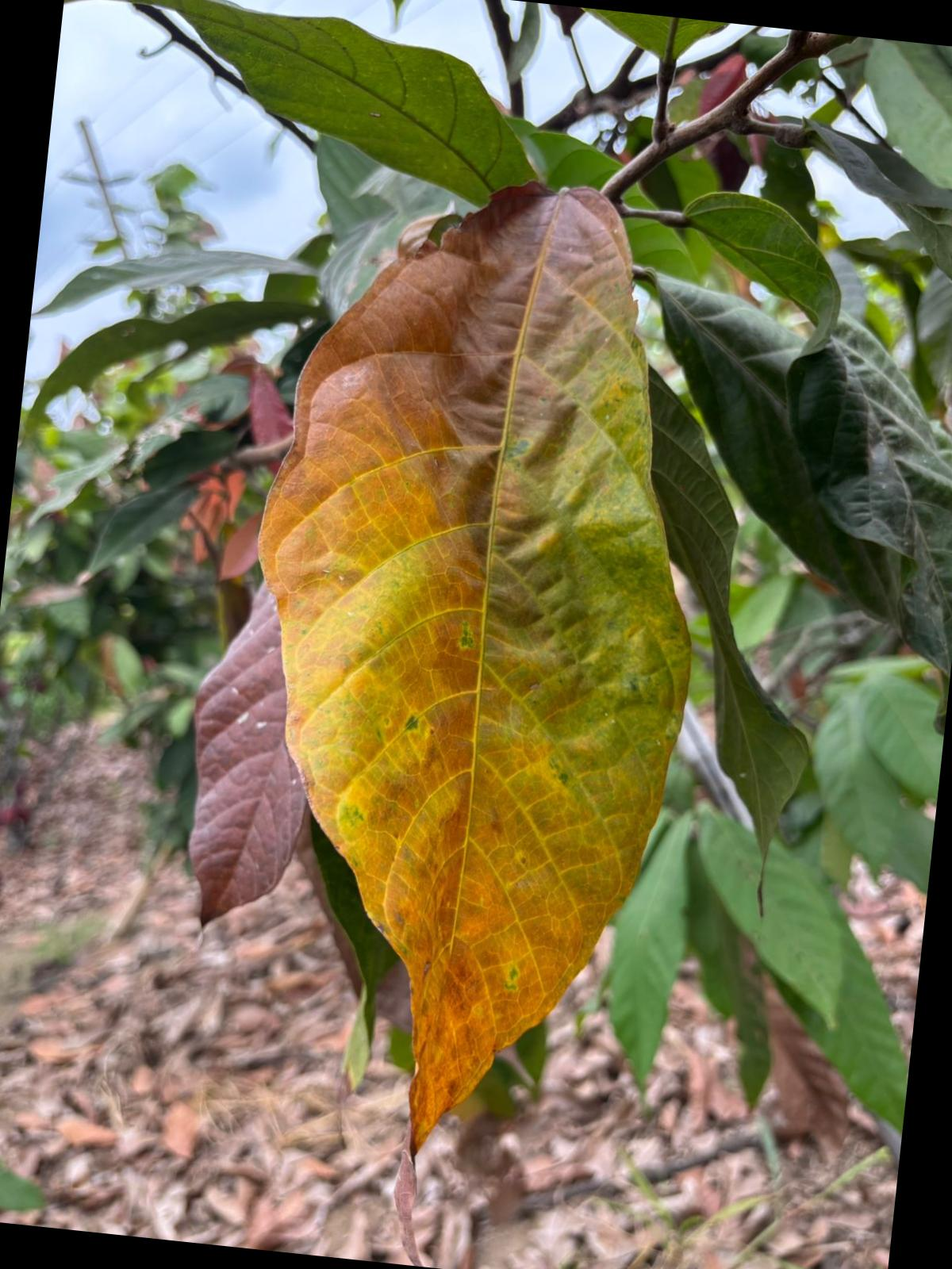Fosforo: (261, 183, 691, 1150)
